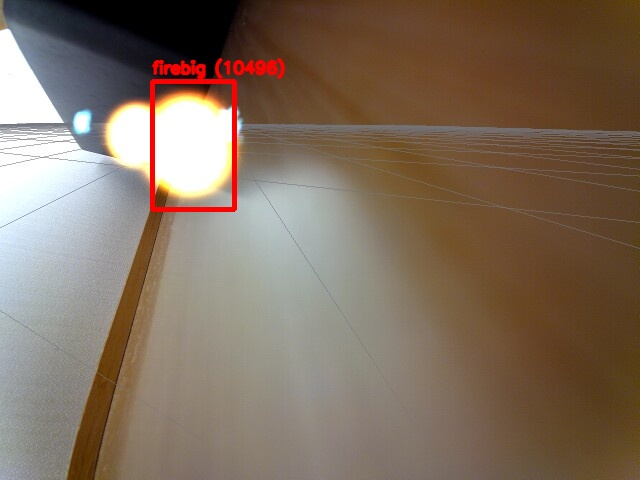firebig: (152, 81, 234, 209)
